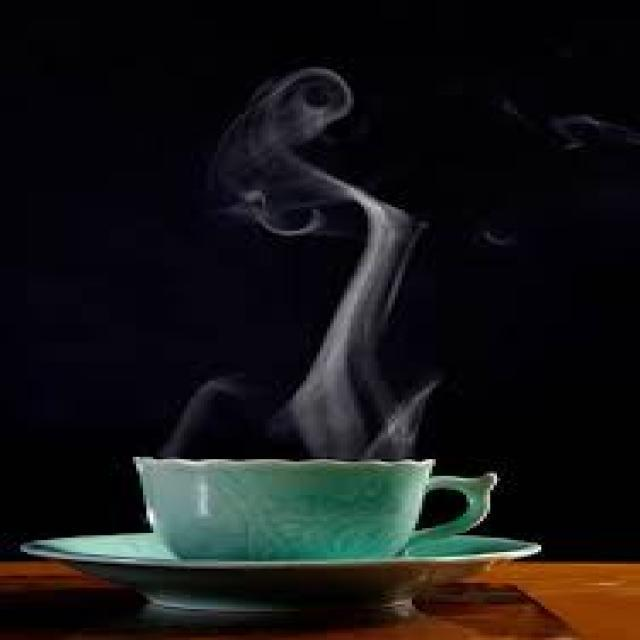taza: (133, 432, 502, 580)
